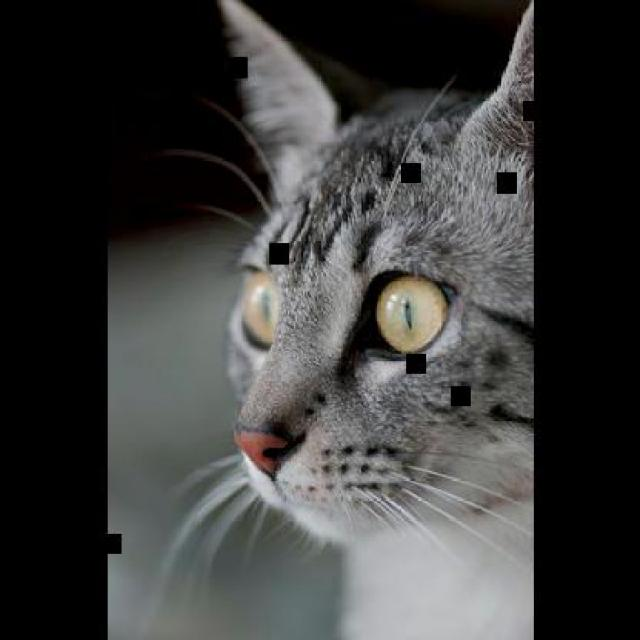unauthorized: (142, 0, 535, 638)
